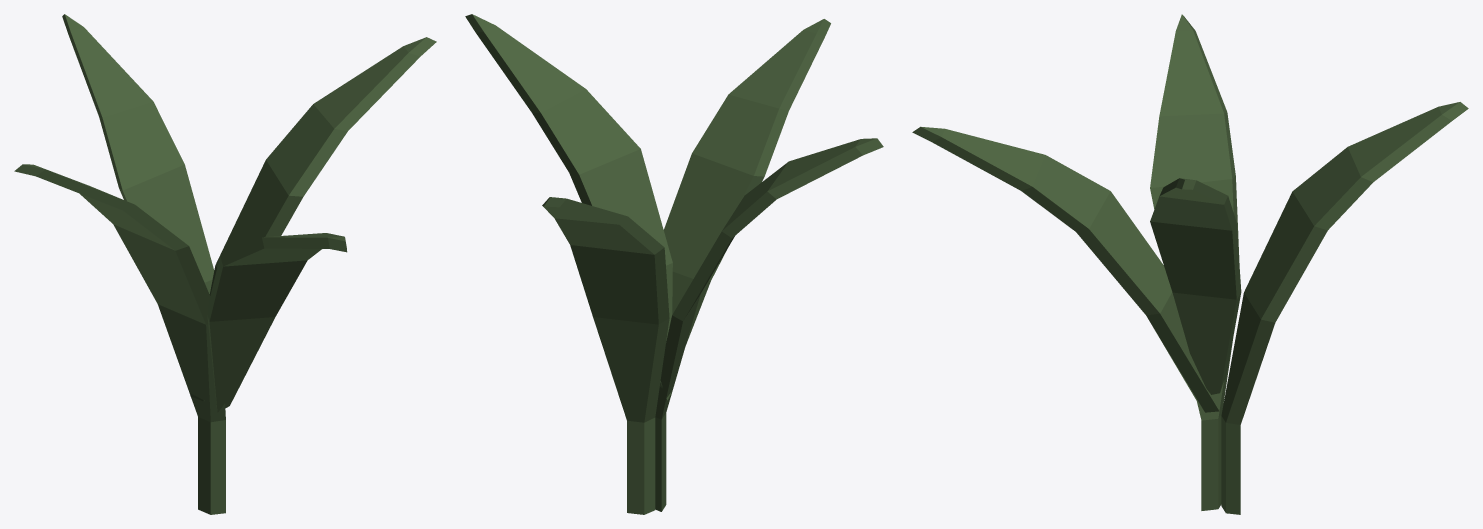
The model's file is PalmTree_1.glb.
3 views of the same model, side by side, from view 1: azimuth 30°, elevation 25°; view 2: azimuth 150°, elevation 25°; view 3: azimuth 270°, elevation 25° (orthographic). The views are drawn at different scales.
Parts seen in each view (by area): view 1: PalmTree_1_Plane.034; view 2: PalmTree_1_Plane.034; view 3: PalmTree_1_Plane.034.
Part boxes in pixels (bbox=[...]): PalmTree_1_Plane.034: bbox=[14, 14, 436, 514]; PalmTree_1_Plane.034: bbox=[465, 14, 883, 514]; PalmTree_1_Plane.034: bbox=[912, 14, 1468, 514].
Bounding box in the file's own units: 0.3551 × 0.3502 × 0.4184.
